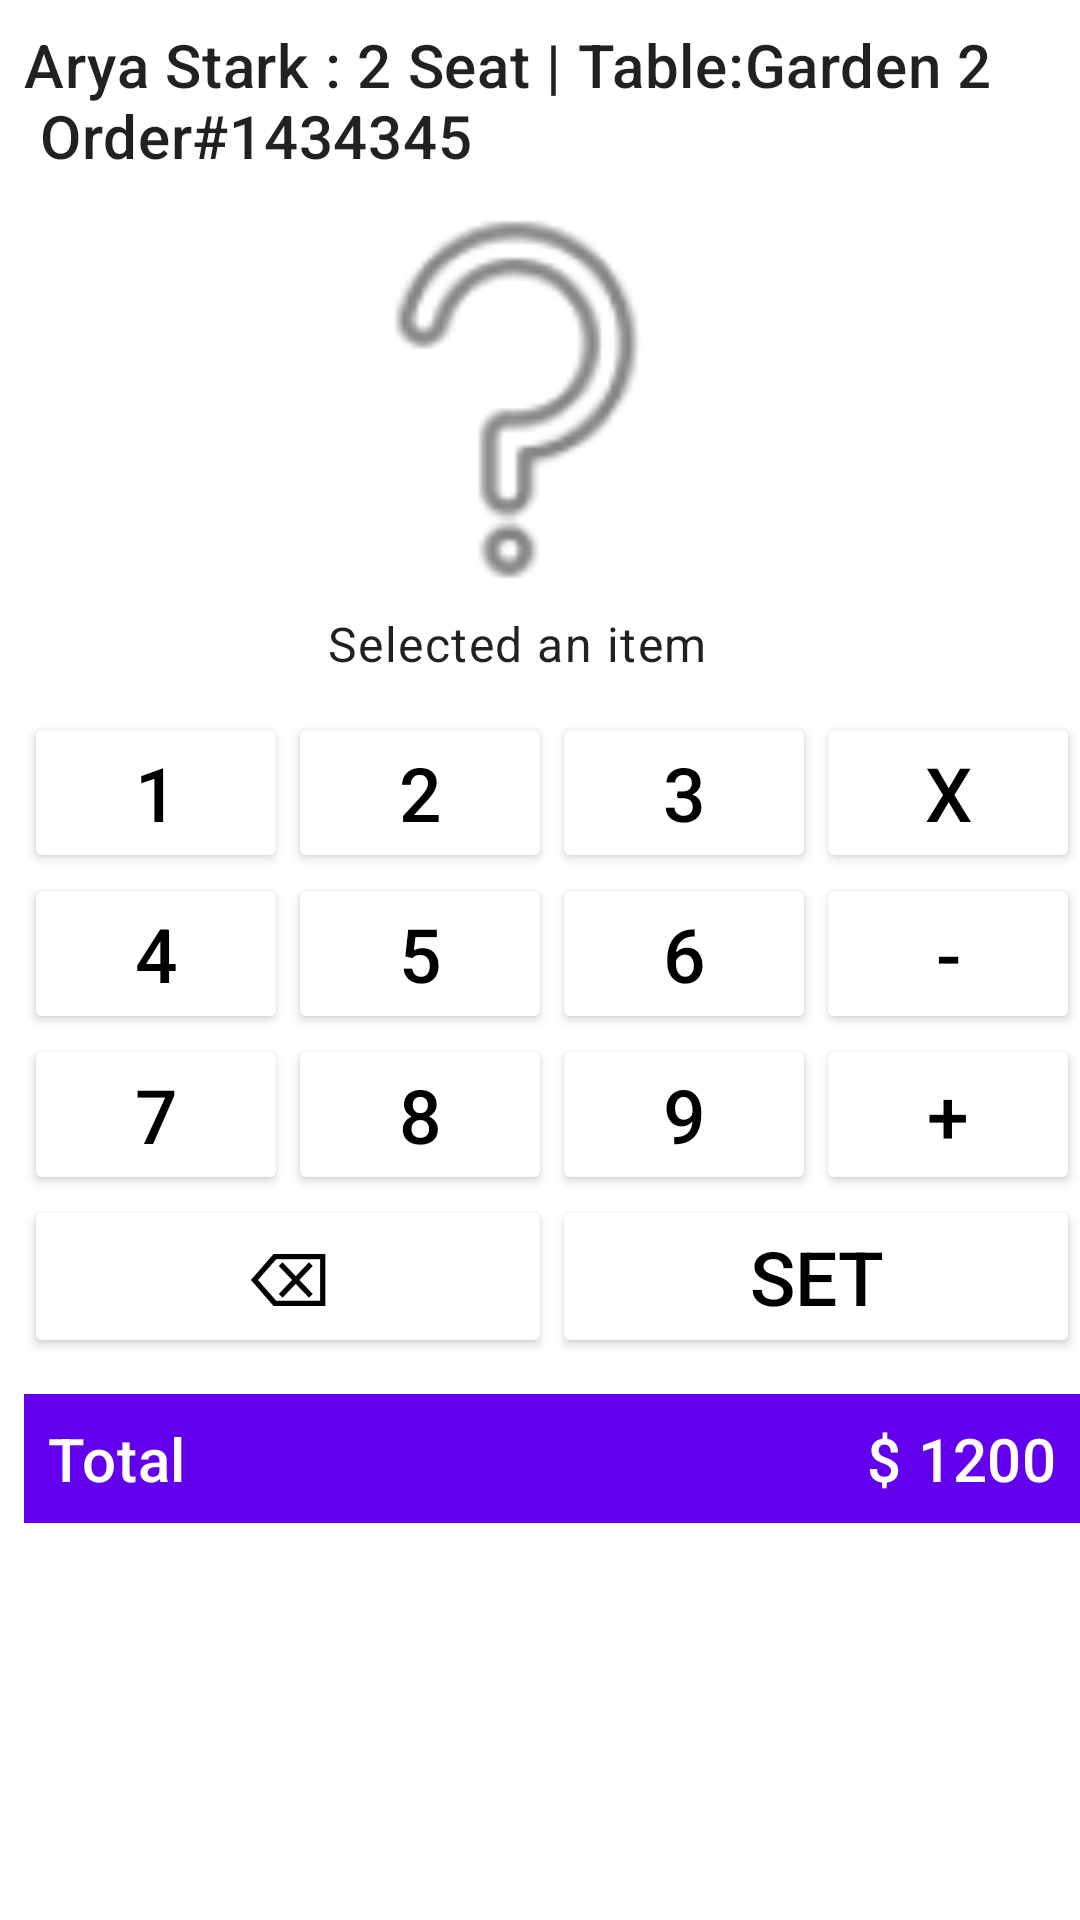

Icons on this 1080px×1920px Android screen, each with the point to tap as (x,y):
question mark: (516,399)
